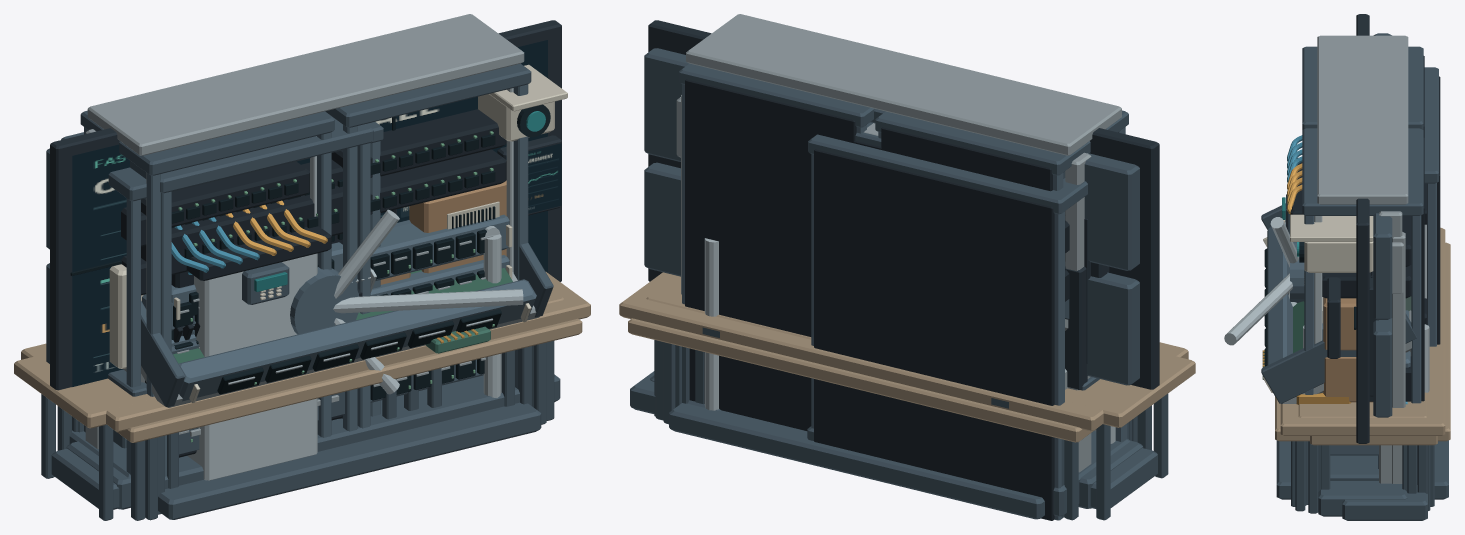
The model's file is exhibits.glb.
The picture shows the model from 3 angles, left to right: view 1: azimuth 30°, elevation 25°; view 2: azimuth 150°, elevation 25°; view 3: azimuth 270°, elevation 25°; orthographic projection. The views are drawn at different scales.
Visible parts, largest first — view 1: Exhibit06, Exhibit03, Exhibit07, Exhibit15, Exhibit16, Exhibit11, Exhibit05, Exhibit01, Exhibit12, Exhibit08, Exhibit09, Exhibit14; view 2: Exhibit05, Exhibit06, Exhibit15, Exhibit03, Exhibit11, Exhibit07, Exhibit01, Exhibit09, Exhibit16, Exhibit12, Exhibit10; view 3: Exhibit06, Exhibit15, Exhibit07, Exhibit01, Exhibit11, Exhibit05, Exhibit03, Exhibit16, Exhibit12, Exhibit14, Exhibit09.
Boxes of the visible parts, bbox=[...] form: Exhibit06: bbox=[80, 14, 561, 488]; Exhibit03: bbox=[158, 209, 541, 519]; Exhibit07: bbox=[113, 220, 582, 520]; Exhibit15: bbox=[46, 20, 561, 509]; Exhibit16: bbox=[130, 111, 563, 476]; Exhibit11: bbox=[21, 180, 590, 520]; Exhibit05: bbox=[61, 122, 418, 478]; Exhibit01: bbox=[14, 64, 567, 520]; Exhibit12: bbox=[66, 264, 143, 509]; Exhibit08: bbox=[167, 330, 514, 488]; Exhibit09: bbox=[77, 326, 490, 432]; Exhibit14: bbox=[158, 346, 531, 514]; Exhibit05: bbox=[807, 134, 1129, 520]; Exhibit06: bbox=[679, 14, 1128, 430]; Exhibit15: bbox=[644, 20, 1159, 508]; Exhibit03: bbox=[669, 238, 1044, 519]; Exhibit11: bbox=[619, 266, 1188, 520]; Exhibit07: bbox=[628, 299, 1095, 518]; Exhibit01: bbox=[630, 95, 1195, 520]; Exhibit09: bbox=[1065, 262, 1132, 440]; Exhibit16: bbox=[646, 122, 1096, 431]; Exhibit12: bbox=[654, 340, 1143, 508]; Exhibit10: bbox=[675, 214, 1129, 439]; Exhibit06: bbox=[1302, 35, 1424, 480]; Exhibit15: bbox=[1318, 14, 1407, 516]; Exhibit07: bbox=[1261, 203, 1450, 506]; Exhibit01: bbox=[1290, 214, 1427, 520]; Exhibit11: bbox=[1280, 227, 1445, 511]; Exhibit05: bbox=[1287, 67, 1440, 491]; Exhibit03: bbox=[1224, 157, 1448, 499]; Exhibit16: bbox=[1298, 272, 1426, 513]; Exhibit12: bbox=[1310, 436, 1437, 493]; Exhibit14: bbox=[1296, 296, 1411, 404]; Exhibit09: bbox=[1262, 350, 1417, 504].
Size of the model in its own units: 4.5 by 3.07 by 2.04.
4 materials, 1 textured.
